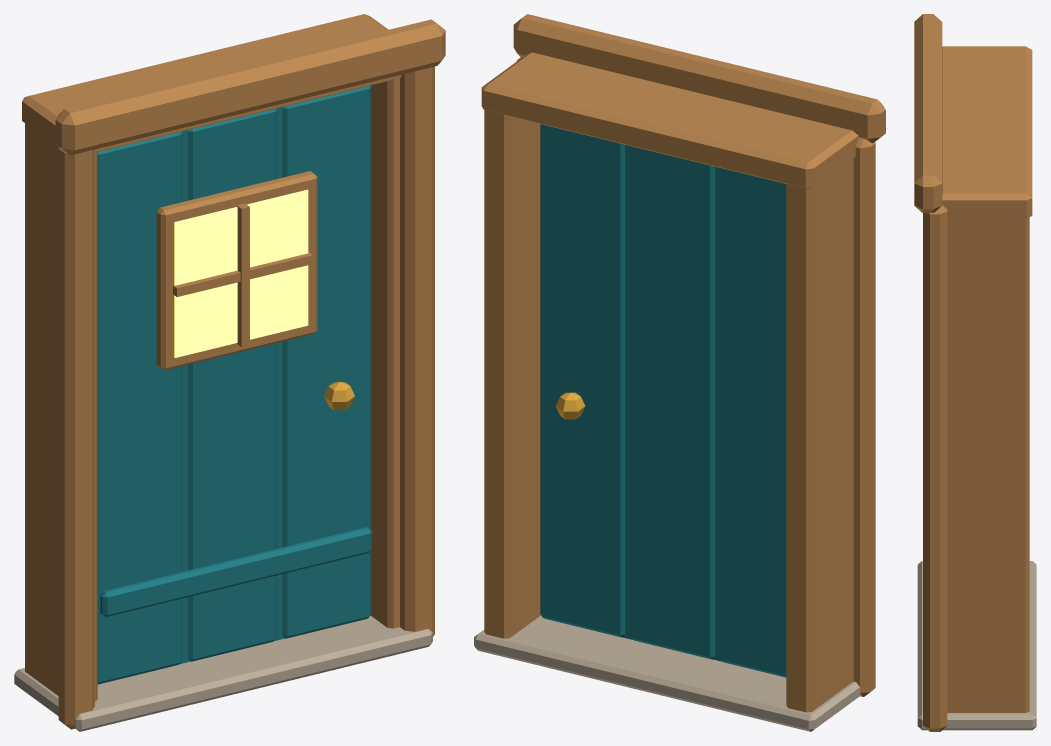
File: door_insert.glb
3 renders of one model, left to right at view 1: azimuth 30°, elevation 25°; view 2: azimuth 150°, elevation 25°; view 3: azimuth 270°, elevation 25°, orthographic. The views are drawn at different scales.
Visible parts, largest first — view 1: part_door_leaf, door_insert; view 2: door_insert, part_door_leaf; view 3: door_insert.
Boxes of the visible parts, x1,y1,x2,y2 form: part_door_leaf: (97,85,371,684); door_insert: (14,14,445,731); door_insert: (474,14,885,731); part_door_leaf: (540,124,786,677); door_insert: (914,14,1036,731).
Size of the model in its own units: 1.14 by 1.76 by 0.35.
